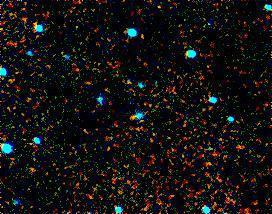star: (120, 101, 150, 131)
